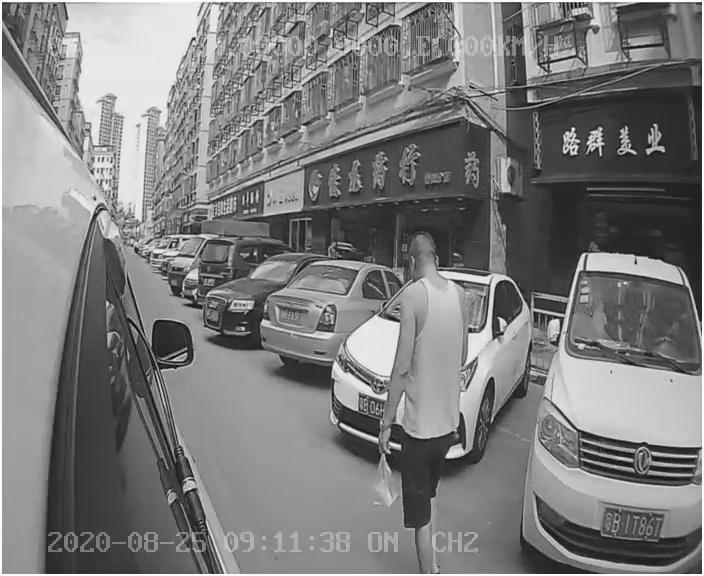person: (370, 236, 476, 533)
